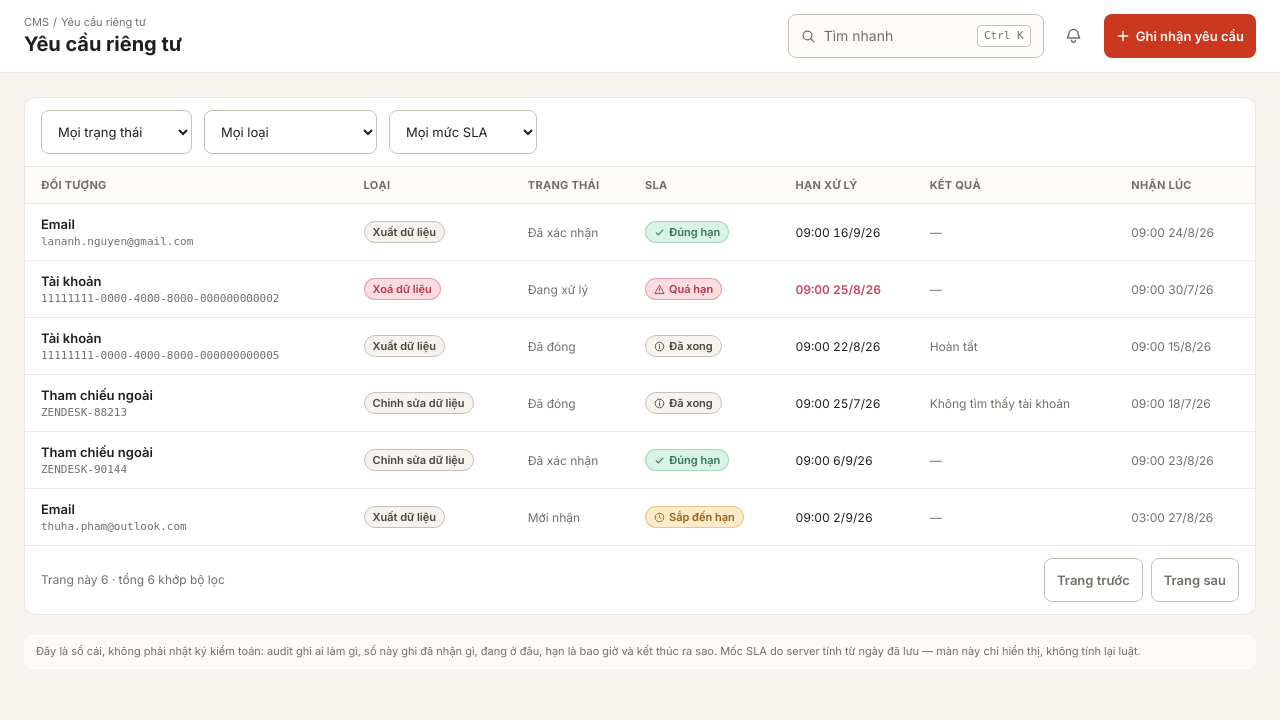
Test: privacy ledger (CMS-043) › surfaces an overdue legal hold as needing a person, not an auto-release
Click the text "ZENDESK-88213".
click(84, 412)  # box [41,406,127,419]
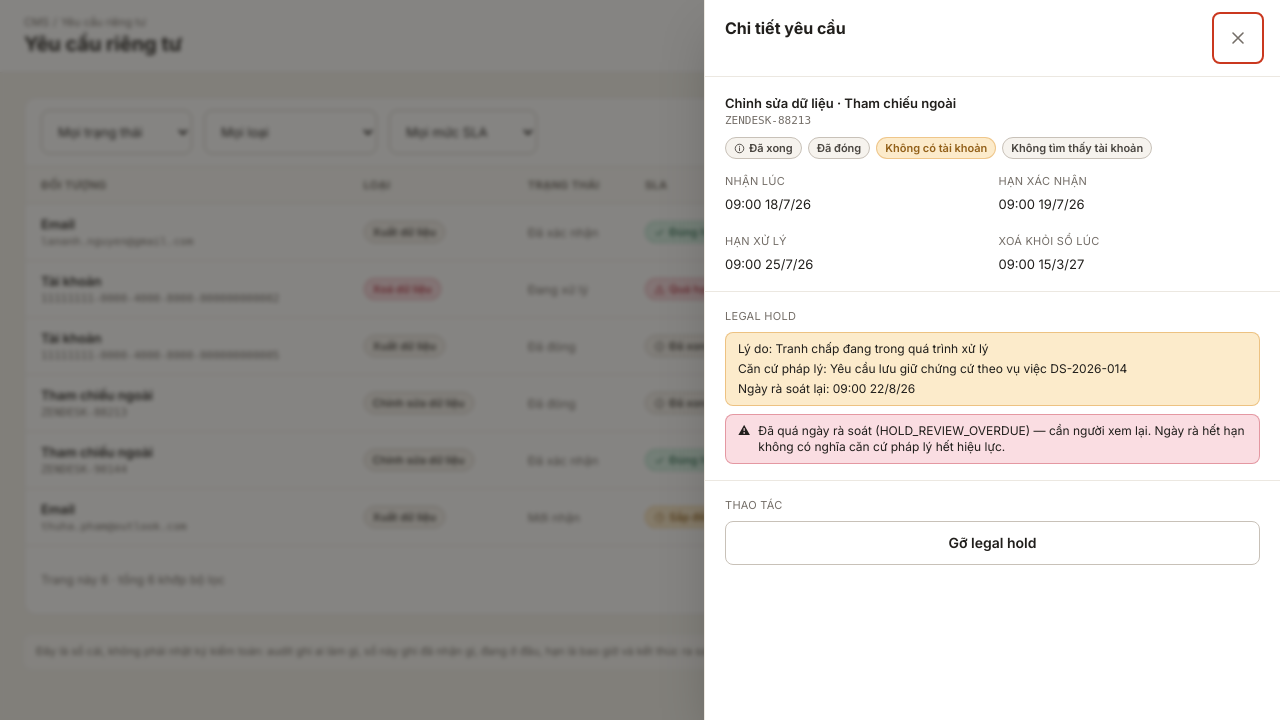
Expected: the text "HOLD_REVIEW_OVERDUE" is shown, [758,423,1244,454]
Expected: the dialog shows "Yêu cầu lưu giữ chứng cứ theo vụ việc DS-2026-014", [830,361,1127,376]
Expected: the button "Gỡ legal hold" is shown, [725,521,1260,565]
